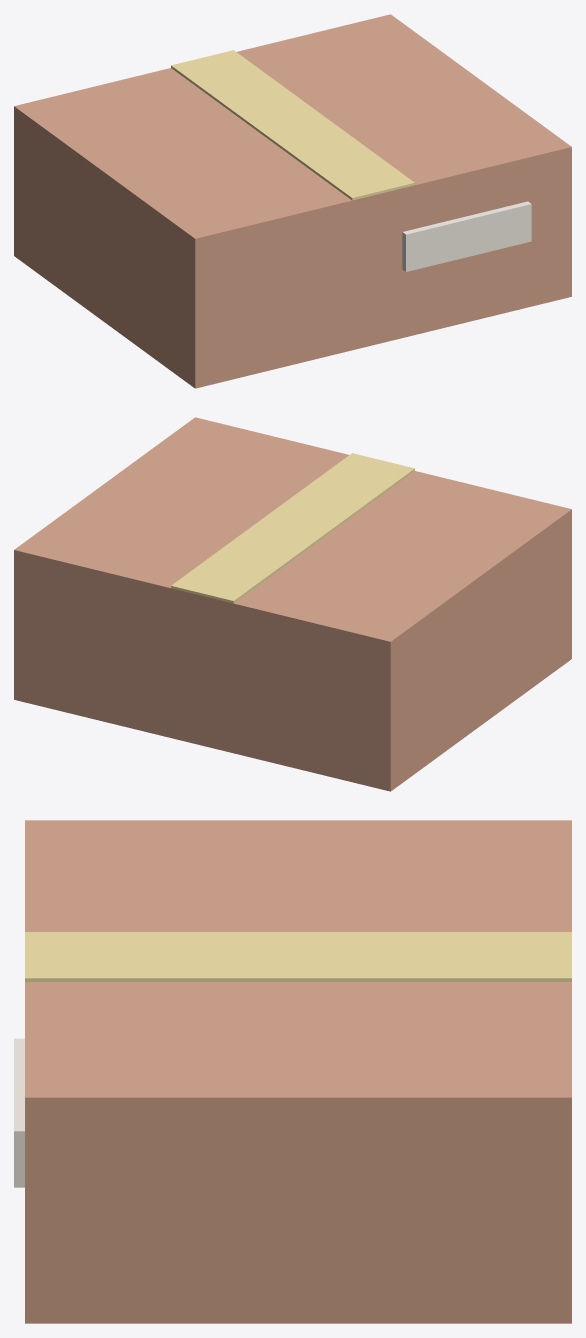
Rendered from parcel.glb.
3 renders of one model, top to bottom at view 1: azimuth 30°, elevation 25°; view 2: azimuth 150°, elevation 25°; view 3: azimuth 270°, elevation 25°, orthographic. The views are drawn at different scales.
Parts seen in each view (by area): view 1: parcel_000, parcel_001, parcel_002; view 2: parcel_000, parcel_001; view 3: parcel_000, parcel_001, parcel_002.
Boxes of the visible parts, x1,y1,x2,y2 form: parcel_000: (14, 14, 571, 388); parcel_001: (171, 50, 414, 200); parcel_002: (402, 201, 531, 271); parcel_000: (14, 417, 571, 791); parcel_001: (171, 453, 414, 603); parcel_000: (25, 820, 571, 1323); parcel_001: (25, 932, 571, 981); parcel_002: (14, 1038, 24, 1187).
Size of the model in its own units: 0.6 by 0.2318 by 0.51.
